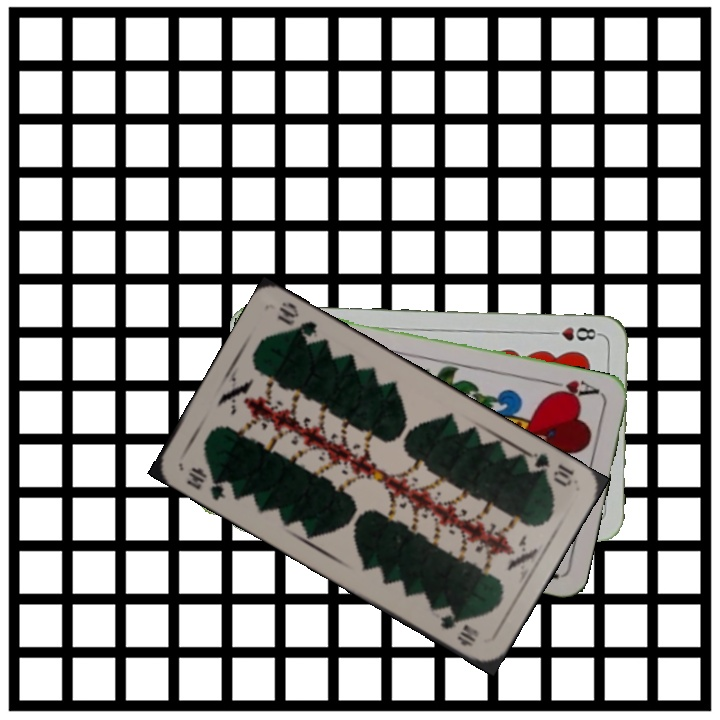G10: (521, 448, 577, 490), (182, 462, 229, 504)
H8: (544, 323, 603, 343)
HA: (544, 376, 602, 402)
